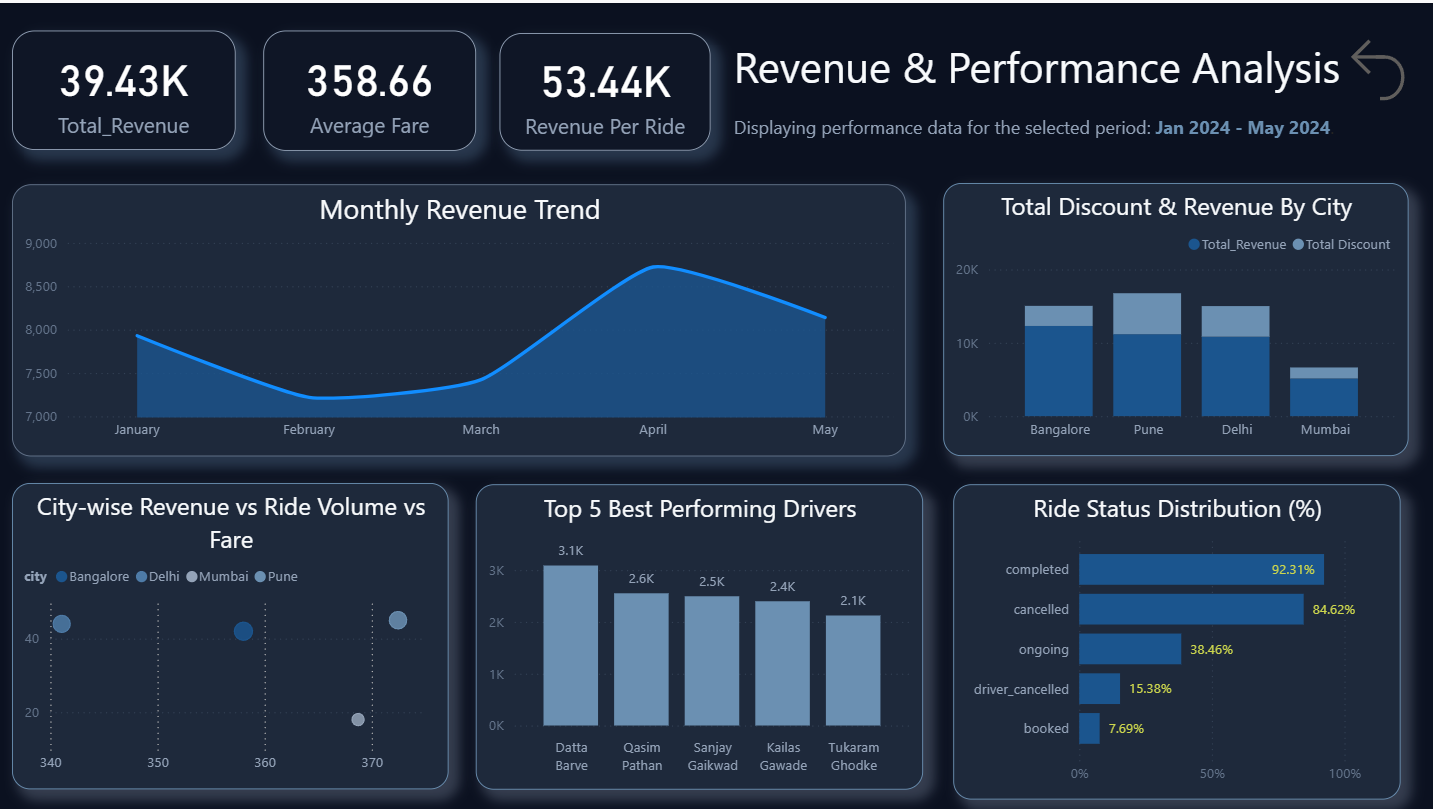

What the dashboard file says about the page in this screenshot:
{"tool":"powerbi","page":{"name":"Revenue & Performance Analysis","canvas":[1280,720],"ordinal":2},"visuals":[{"type":"columnChart","title":"Top 5 Best Performing Drivers","fields":{"Category":["cab_rides_final.driver_name"],"Y":["Sum(cab_rides_final.fare)"]},"box":[426.3,429,398.1,271.7],"z":0},{"type":"columnChart","title":"Total Discount & Revenue By City","fields":{"Category":["cab_rides_final.city"],"Y":["cab_rides_final.Total_Revenue","cab_rides_final.Total Discount"]},"box":[843.2,160,414.2,243.4],"z":1000},{"type":"clusteredBarChart","title":"Ride Status Distribution (%)","fields":{"Category":["cab_rides_final.ride_status"],"Y":["Count(cab_rides_final.pickup_time)"]},"box":[851.3,429,398.1,281.1],"z":2000},{"type":"card","fields":{"Values":["Avg(cab_rides_final.fare)"]},"box":[236.7,24.2,189.6,107.6],"z":3000},{"type":"card","fields":{"Values":["cab_rides_final.Total_Revenue"]},"box":[13.4,24.2,199,106.2],"z":4000},{"type":"scatterChart","title":"City-wise Revenue vs Ride Volume vs Fare","fields":{"X":["Avg(cab_rides_final.fare)"],"Y":["CountNonNull(cab_rides_final.ride_id)"],"Size":["cab_rides_final.Total_Revenue"],"Series":["cab_rides_final.city"]},"box":[13.5,428,388.9,272.7],"z":5000},{"type":"card","fields":{"Values":["Sum(cab_rides_final.fare)"]},"box":[447.8,26.9,188.3,104.9],"z":6000},{"type":"lineChart","title":"Monthly Revenue Trend","fields":{"Category":["cab_rides_final.payment_date.Variation.Date Hierarchy.Month","cab_rides_final.payment_date.Variation.Date Hierarchy.Day"],"Y":["Sum(cab_rides_final.amount)"]},"box":[13.3,161.7,796.3,242.5],"z":7000},{"type":"textbox","box":[650.9,26.9,558.1,67.2],"z":8000},{"type":"actionButton","box":[1195.5,24.2,68.6,69.9],"z":9000},{"type":"textbox","box":[651.5,94.1,570.6,43.4],"z":10000}]}

Visuals, with their boxes in screenshot pixels (x1, y1, x2, y2), scaled from the page's 1280x720 canvas onto the 1433x809 screenshot:
"Top 5 Best Performing Drivers" columnChart: 477 482 923 787
"Total Discount & Revenue By City" columnChart: 944 180 1408 453
"Ride Status Distribution (%)" clusteredBarChart: 953 482 1399 798
card - Avg(cab_rides_final.fare): 265 27 477 148
card - cab_rides_final.Total_Revenue: 15 27 238 147
"City-wise Revenue vs Ride Volume vs Fare" scatterChart: 15 481 450 787
card - Sum(cab_rides_final.fare): 501 30 712 148
"Monthly Revenue Trend" lineChart: 15 182 906 454
textbox: 729 30 1354 106
actionButton: 1338 27 1415 106
textbox: 729 106 1368 154
